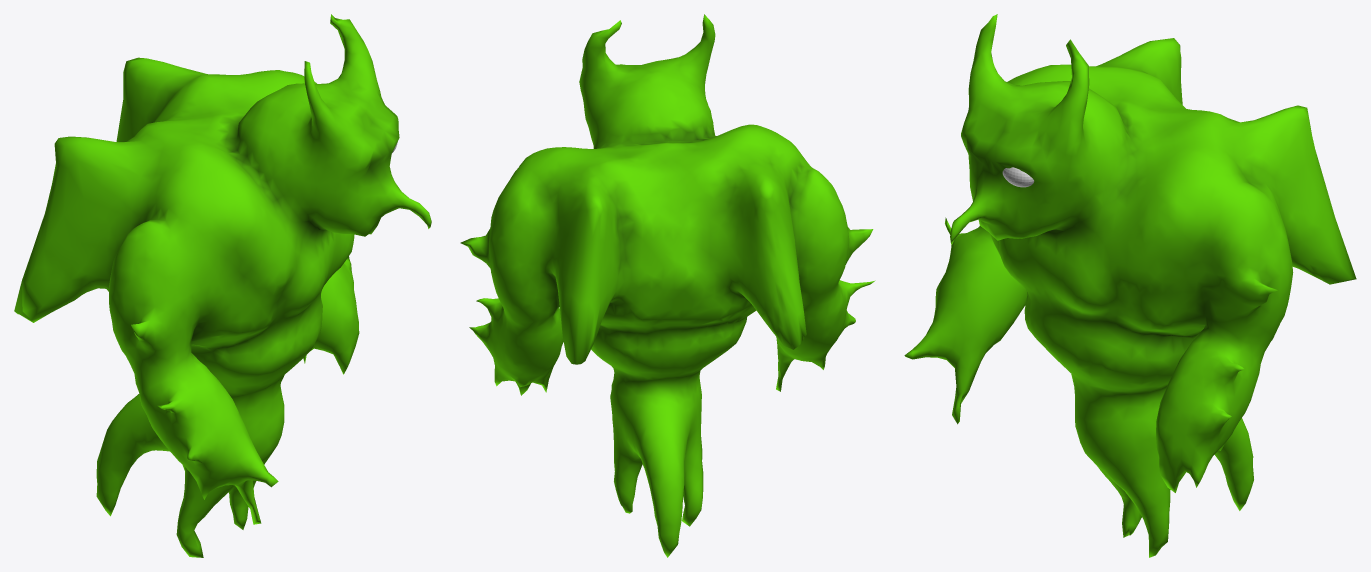
File: asset.gltf
3 views of the same model, side by side, from view 1: azimuth 30°, elevation 25°; view 2: azimuth 150°, elevation 25°; view 3: azimuth 270°, elevation 25° (orthographic). The views are drawn at different scales.
Visible parts, largest first — view 1: Icosphere.005; view 2: Icosphere.005; view 3: Icosphere.005.
Boxes of the visible parts, bbox=[...] form: Icosphere.005: bbox=[14, 14, 431, 557]; Icosphere.005: bbox=[460, 14, 875, 557]; Icosphere.005: bbox=[904, 14, 1356, 557].
Bounding box in the file's own units: 7.75 × 11.1 × 8.28.
